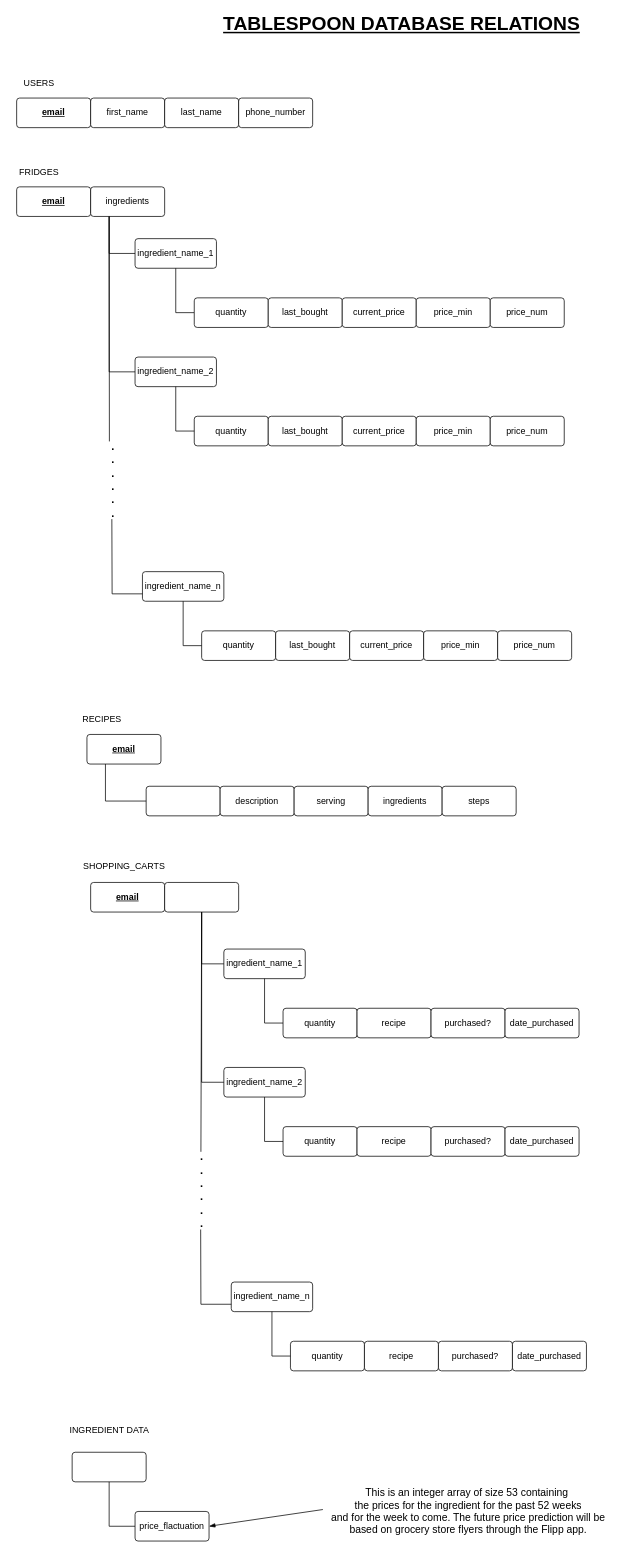
Image size: 625x1554. Some labels were removed from this diagram. The centre of each missing label's shape, as x and y in pixels:
"ingredient_name" goes at point 108,1467.
"items" goes at point 201,897.
"title" goes at point 182,801.
